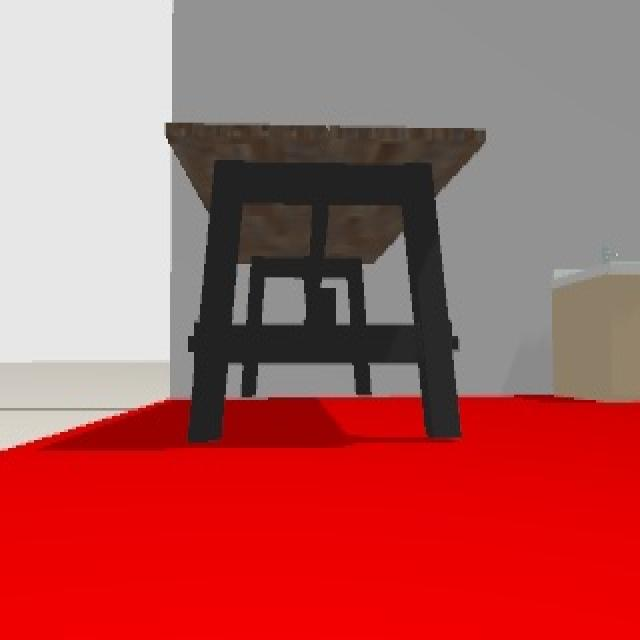dining: (163, 120, 486, 443)
